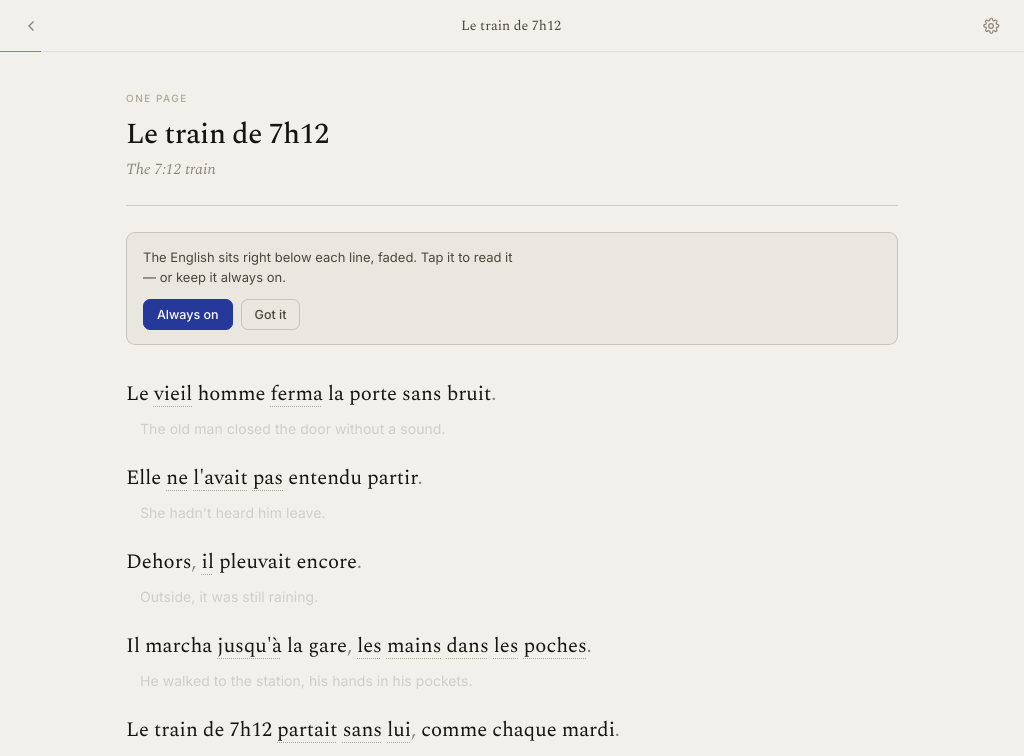
Test: the reader › never dead-ends: a word with no note still explains itself
Step 1. Click the 1st button "Le" → point(137, 394), box [126,378,149,409]
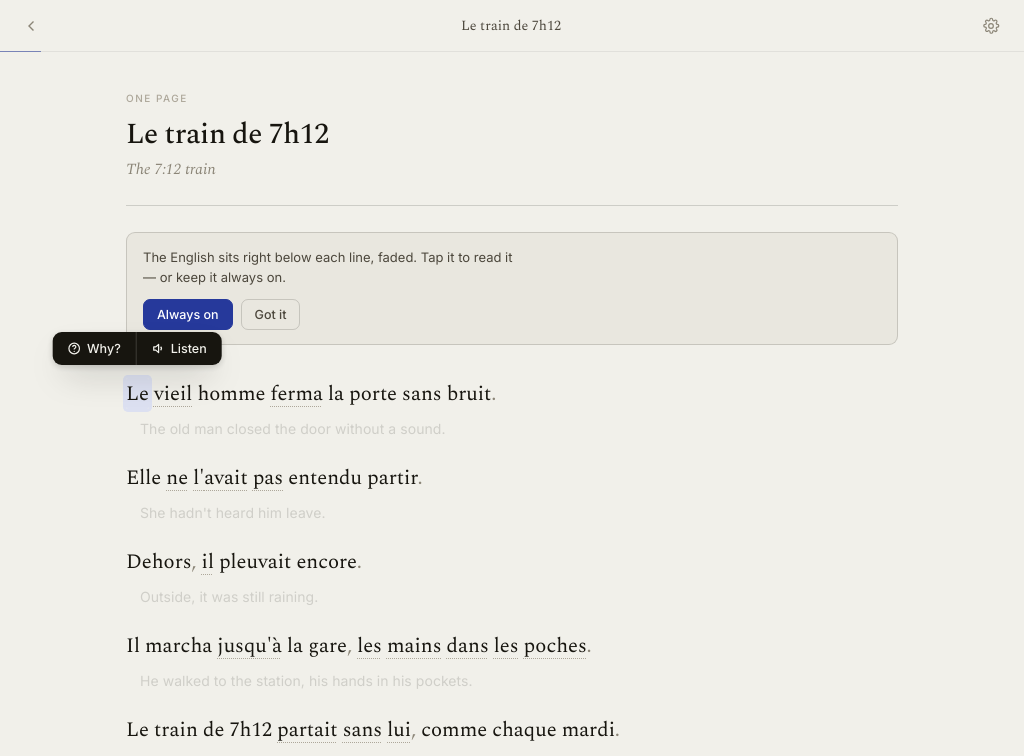
Step 2. Click the button "Why?" → point(94, 349), box [53,332,136,365]
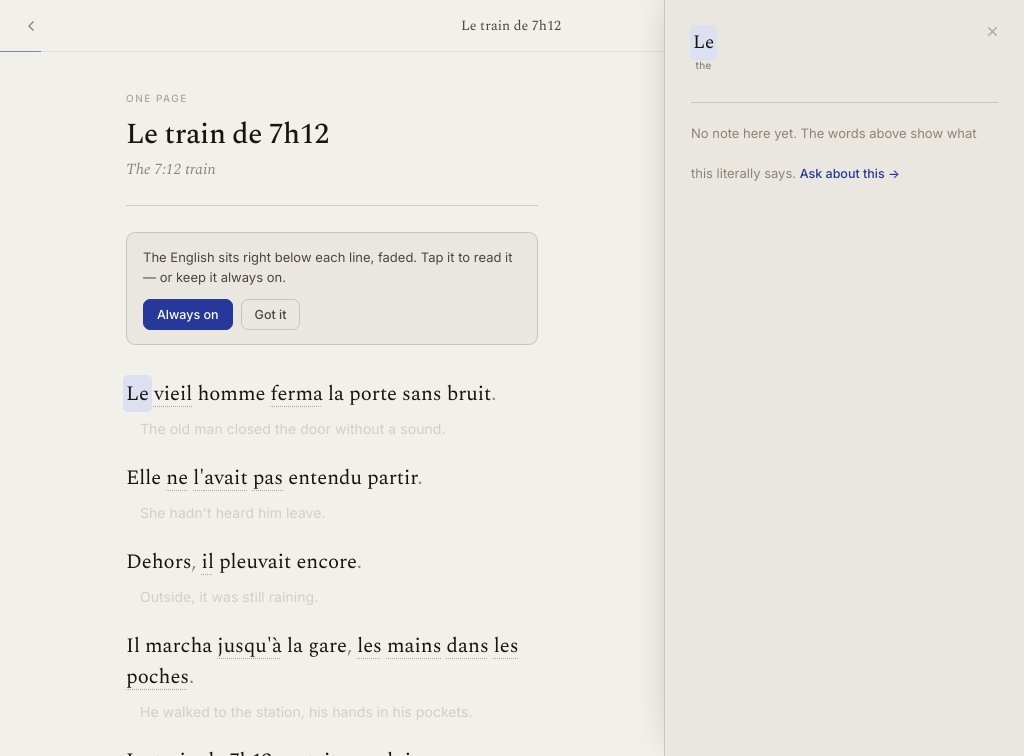
Now the element with class "selstrip" is shown, box [691,30,998,103]
Now the element with class "nonote" is shown, box [691,123,998,184]
Now the link "Ask about this →" is shown, box [800,164,900,184]
